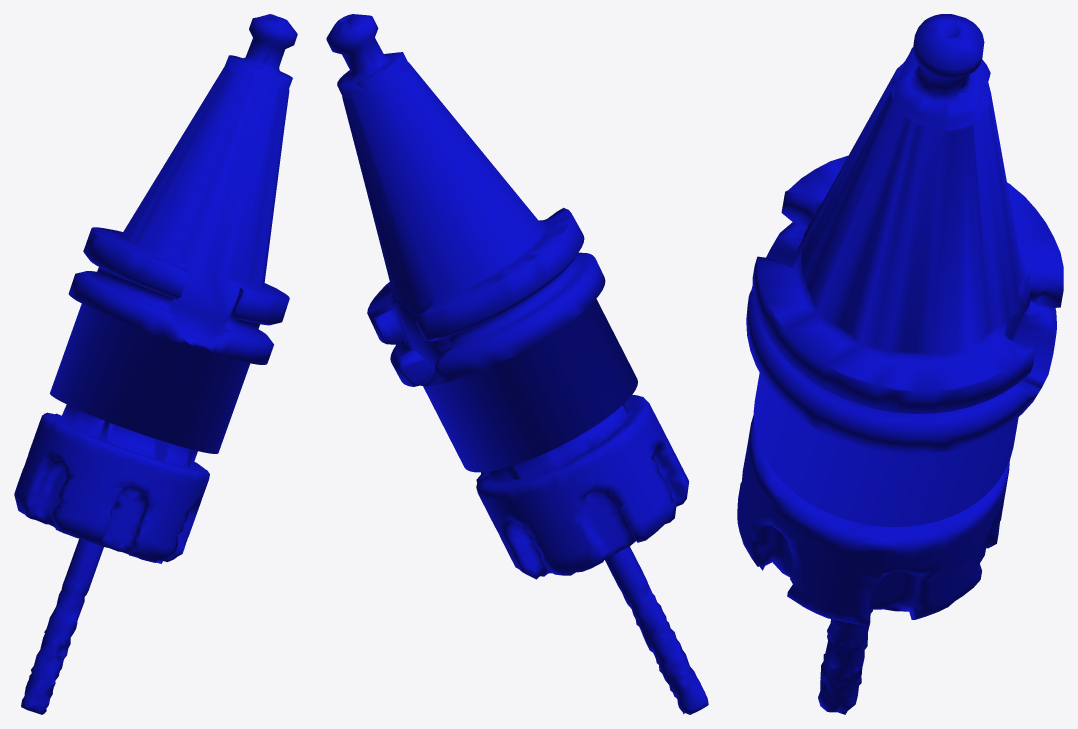
File: daoju2.obj
The picture shows the model from 3 angles, left to right: view 1: azimuth 30°, elevation 25°; view 2: azimuth 150°, elevation 25°; view 3: azimuth 270°, elevation 25°; orthographic projection. The views are drawn at different scales.
Visible parts, largest first — view 1: daoju2; view 2: daoju2; view 3: daoju2.
Boxes of the visible parts, x1,y1,x2,y2 form: daoju2: (14, 14, 297, 714); daoju2: (326, 14, 708, 714); daoju2: (737, 14, 1063, 714).
Bounding box in the file's own units: 0.4997 × 0.9266 × 0.3101.
